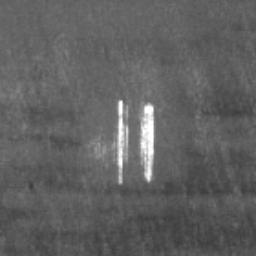Bright scratch: (140, 103, 154, 181), (117, 100, 128, 184)
